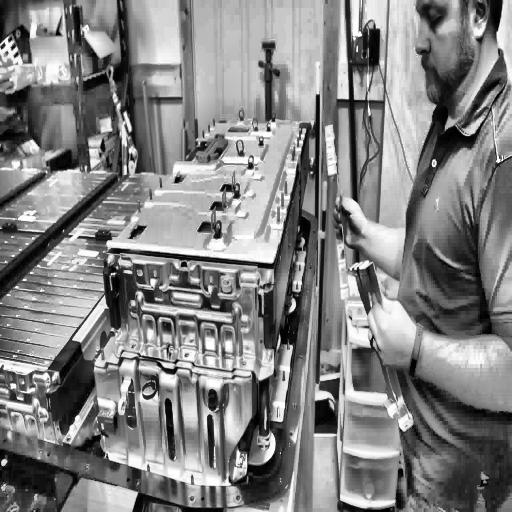battery_module: (0, 121, 310, 457)
